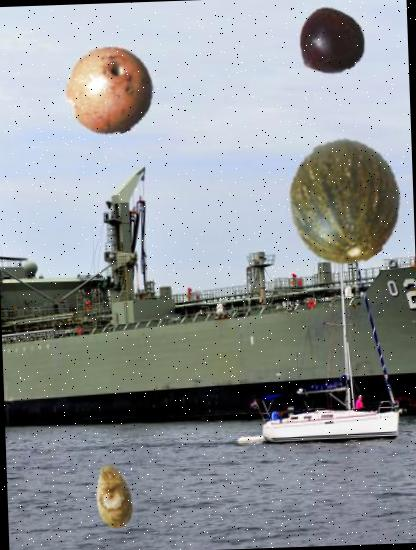Chestnut: (294, 5, 365, 76)
Ginger: (80, 464, 147, 532)
Granadilla: (63, 45, 156, 138)
Melon: (283, 137, 410, 264)
